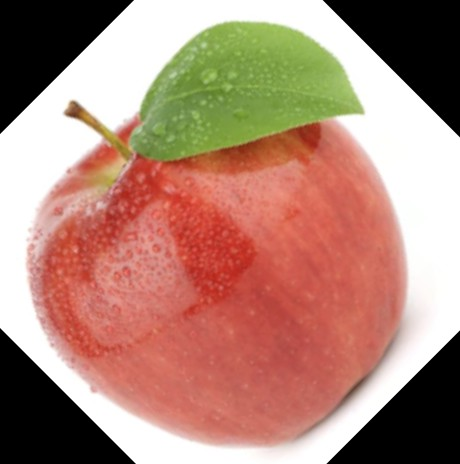fresh_apple: (23, 78, 406, 450)
